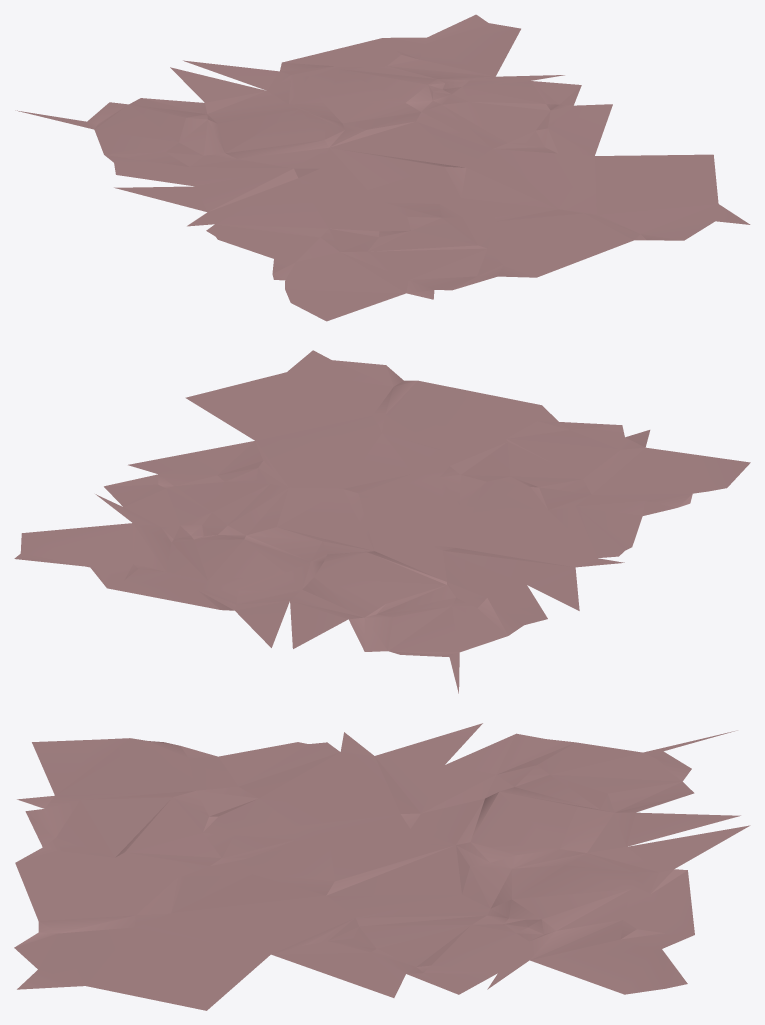
The model's file is pleateauArea1.fbx_PolyShape__46__012LODs.fbx.
The picture shows the model from 3 angles, top to bottom: view 1: azimuth 30°, elevation 25°; view 2: azimuth 150°, elevation 25°; view 3: azimuth 270°, elevation 25°; orthographic projection. The views are drawn at different scales.
Parts seen in each view (by area): view 1: PolyShape (46).012_LOD0; view 2: PolyShape (46).012_LOD0; view 3: PolyShape (46).012_LOD0.
Boxes of the visible parts, <box> form: PolyShape (46).012_LOD0: <box>15,14,750,321</box>; PolyShape (46).012_LOD0: <box>14,350,750,693</box>; PolyShape (46).012_LOD0: <box>14,723,750,1010</box>.
Size of what is drawn, in the model's own units: 4856 by 81.2 by 5286.
